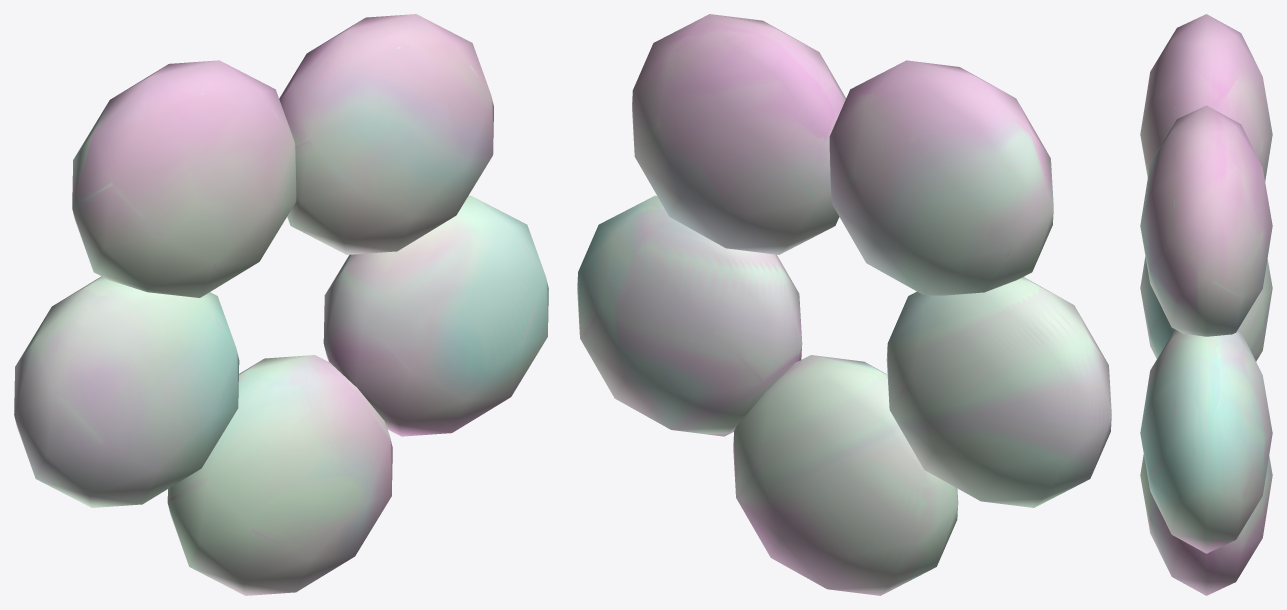
The model's file is fiore 5 cerchi 72.fbx.
The picture shows the model from 3 angles, left to right: view 1: azimuth 30°, elevation 25°; view 2: azimuth 150°, elevation 25°; view 3: azimuth 270°, elevation 25°; orthographic projection. The views are drawn at different scales.
Parts seen in each view (by area): view 1: Icosphere.002; view 2: Icosphere.002; view 3: Icosphere.002.
Part boxes in pixels (x1,y1,x2,y2): Icosphere.002: (14, 14, 548, 595); Icosphere.002: (577, 14, 1111, 595); Icosphere.002: (1140, 14, 1272, 595).
Bounding box in the file's own units: 238 × 230 × 54.5.
